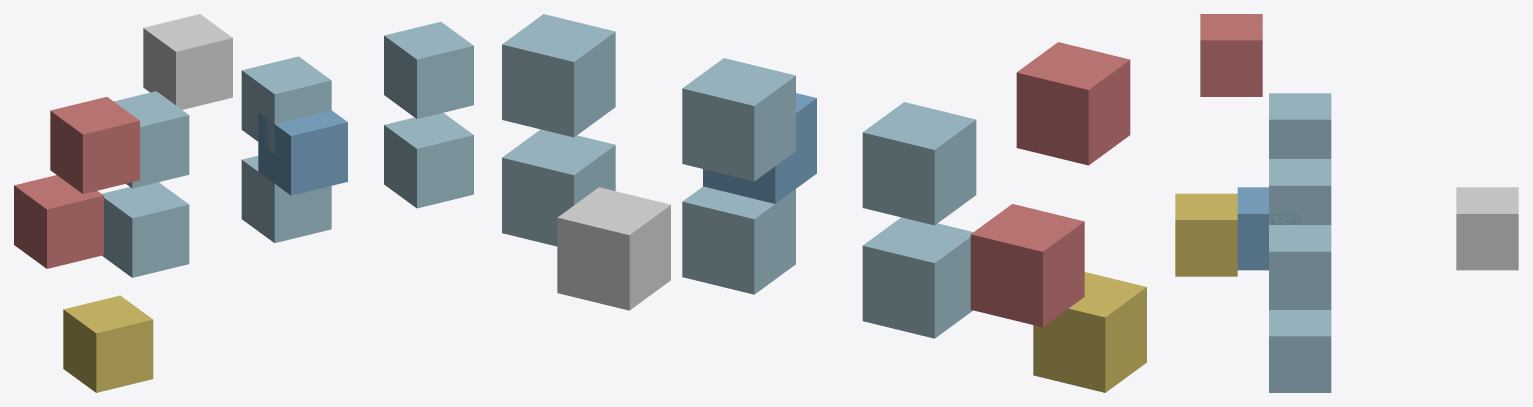
The model's file is bld_hospital_white.glb.
3 renders of one model, left to right at view 1: azimuth 30°, elevation 25°; view 2: azimuth 150°, elevation 25°; view 3: azimuth 270°, elevation 25°, orthographic. The views are drawn at different scales.
Parts seen in each view (by area): view 1: world; view 2: world; view 3: world.
Part boxes in pixels (bbox=[...]): world: bbox=[14, 14, 473, 392]; world: bbox=[502, 14, 1146, 392]; world: bbox=[1175, 14, 1518, 392].
Size of the model in its own units: 7.5 by 4.18 by 5.5.
